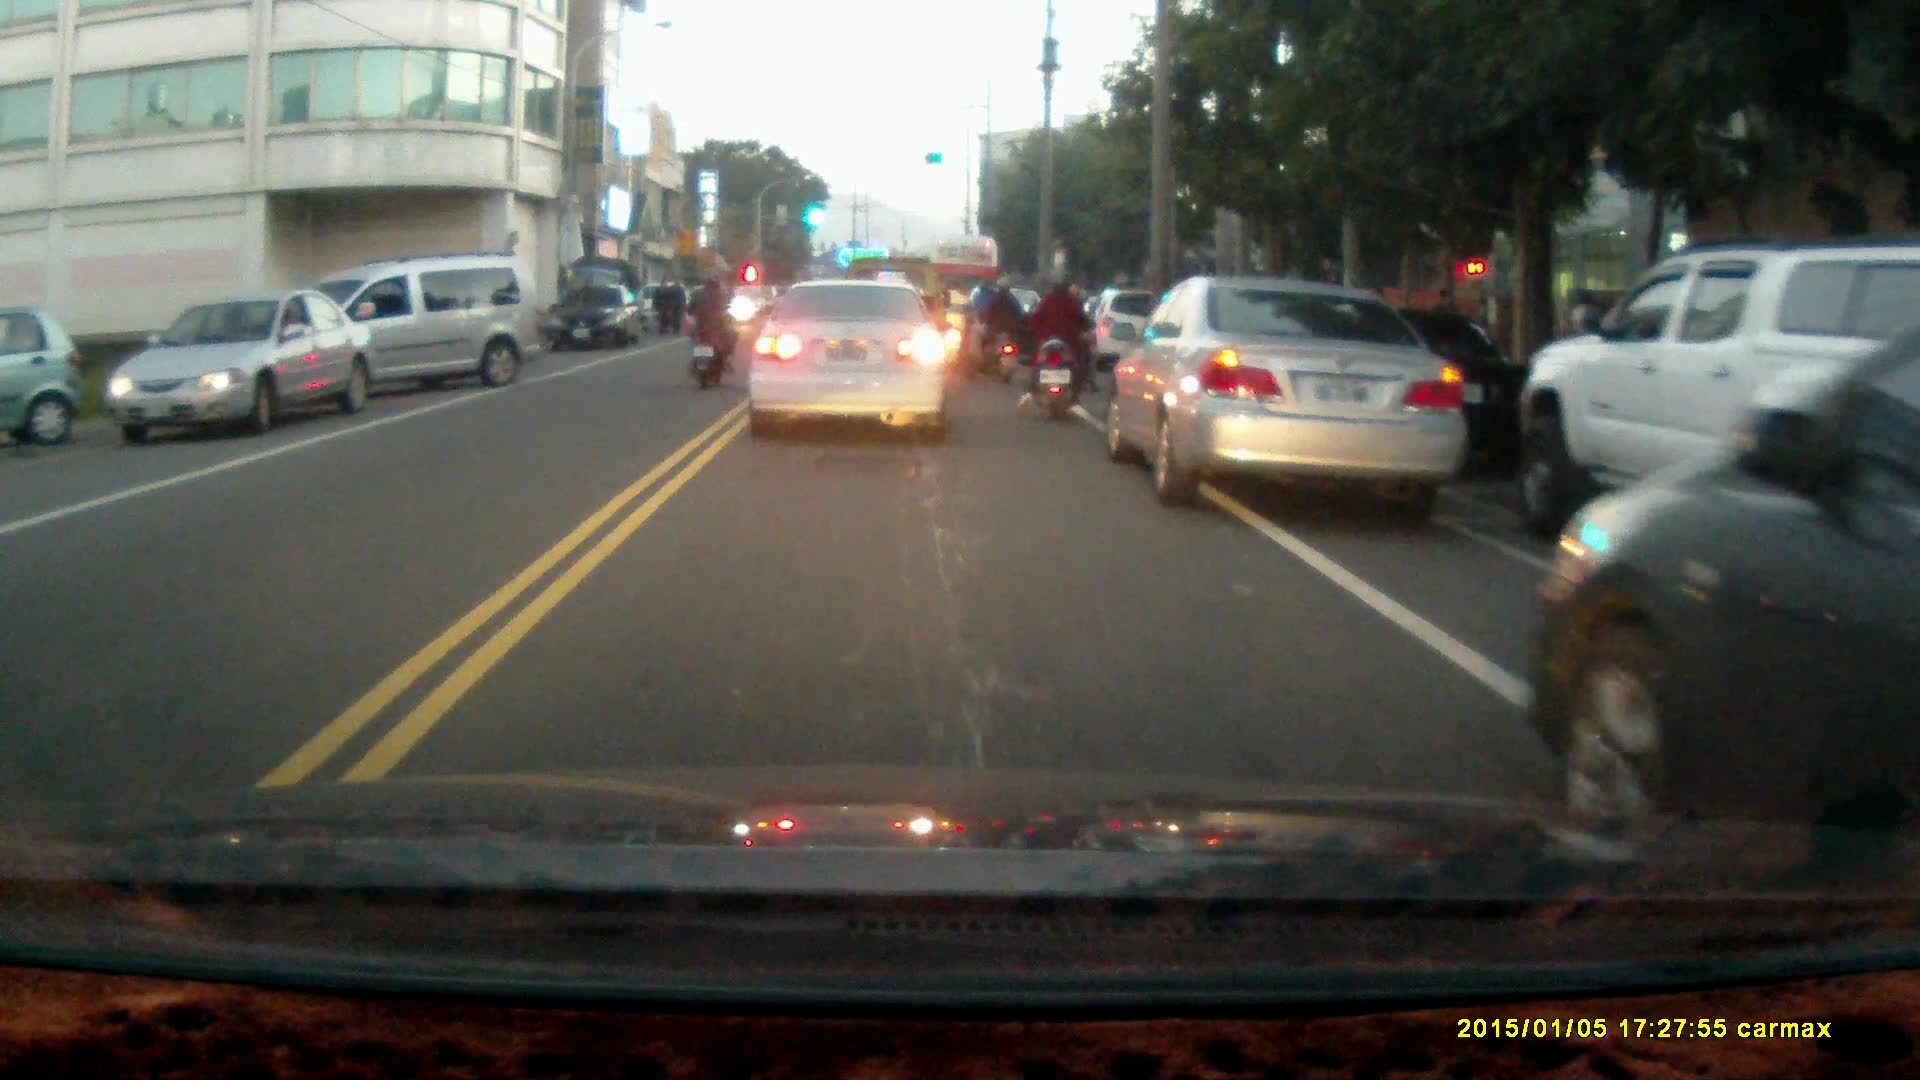pedestrian: (651, 276, 676, 339)
rider: (1016, 266, 1097, 422), (959, 270, 1023, 383), (684, 274, 735, 389)
vehicle: (1532, 317, 1920, 889), (1510, 246, 1920, 556), (1100, 270, 1467, 508), (256, 255, 546, 413), (107, 292, 373, 441), (745, 278, 950, 448), (1, 296, 83, 446), (545, 282, 643, 353)
